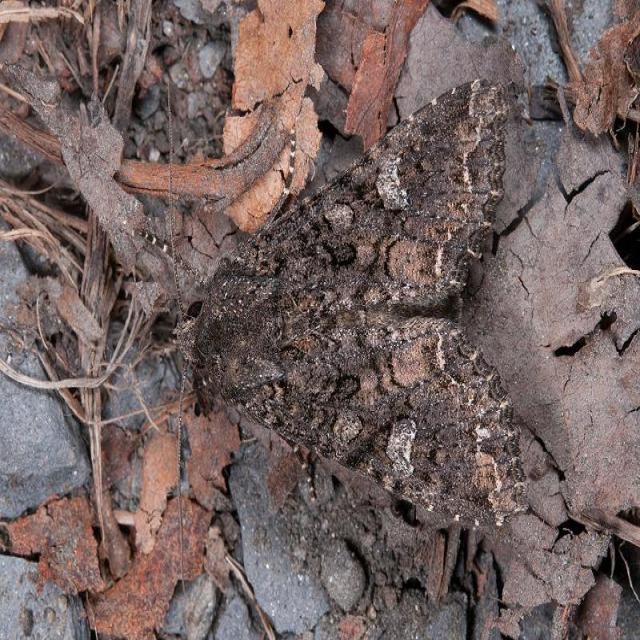armyworm: (151, 51, 536, 542)
